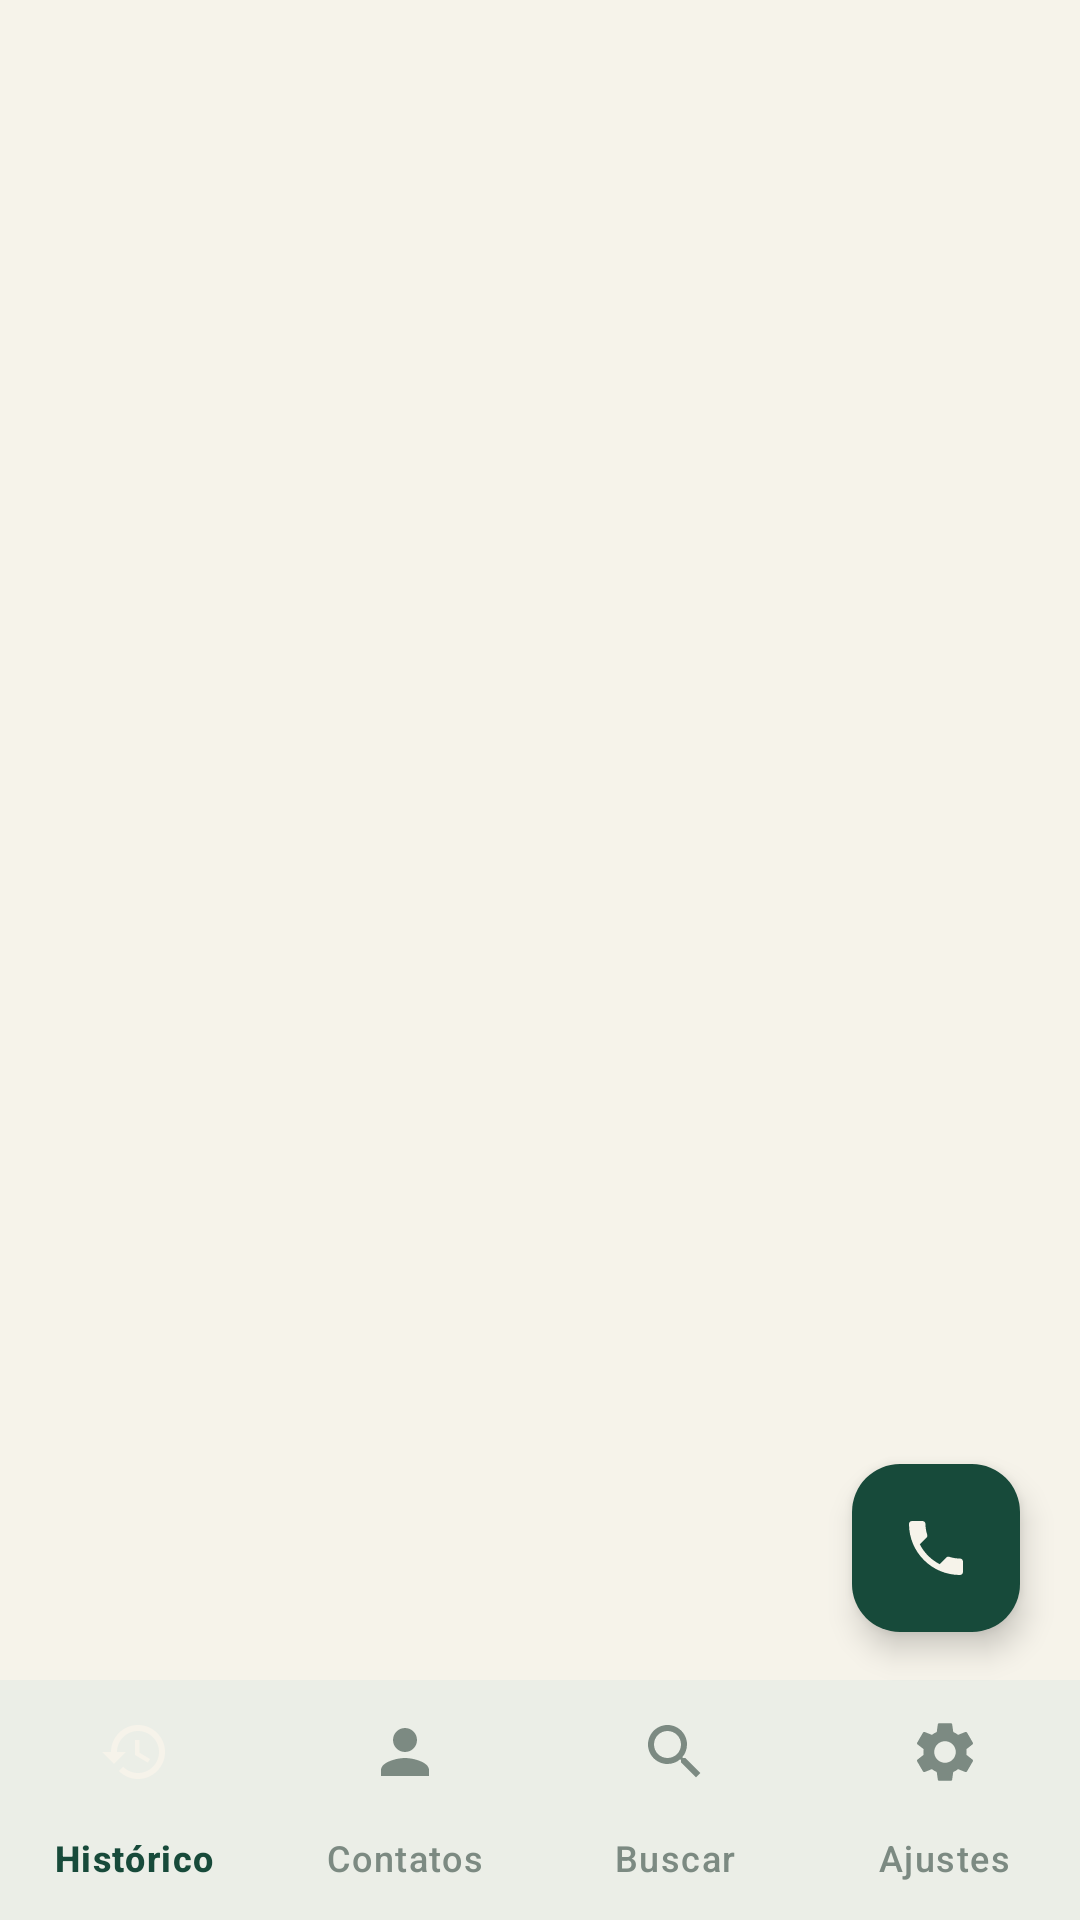

Named icons in this screenshot (1080w x 1920h) and their centers, [x,y]:
Discar: [936,1548]
